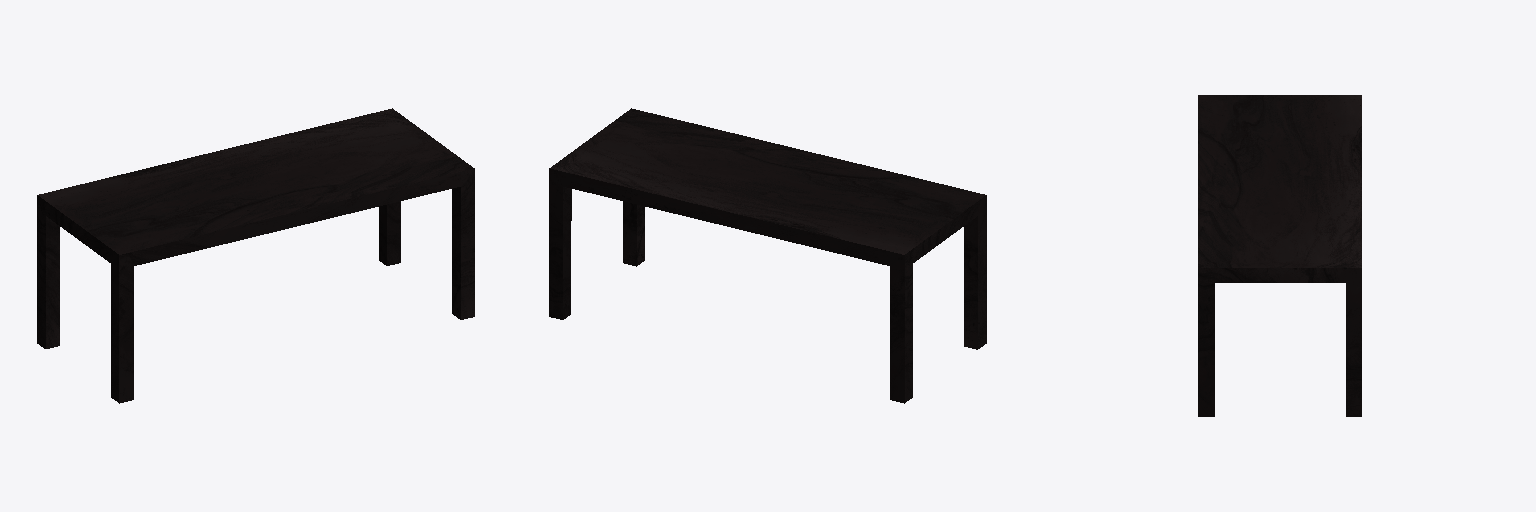
3 views of the same model, side by side, from view 1: azimuth 30°, elevation 25°; view 2: azimuth 150°, elevation 25°; view 3: azimuth 270°, elevation 25° (orthographic).
Parts seen in each view (by area): view 1: coffeetable; view 2: coffeetable; view 3: coffeetable.
Boxes of the visible parts, x1=… form: coffeetable: x1=37, y1=108, x2=474, y2=403; coffeetable: x1=549, y1=108, x2=986, y2=403; coffeetable: x1=1198, y1=95, x2=1361, y2=416.
Bounding box in the file's own units: 2.03 × 0.8138 × 0.8138.
1 materials, 1 textured.